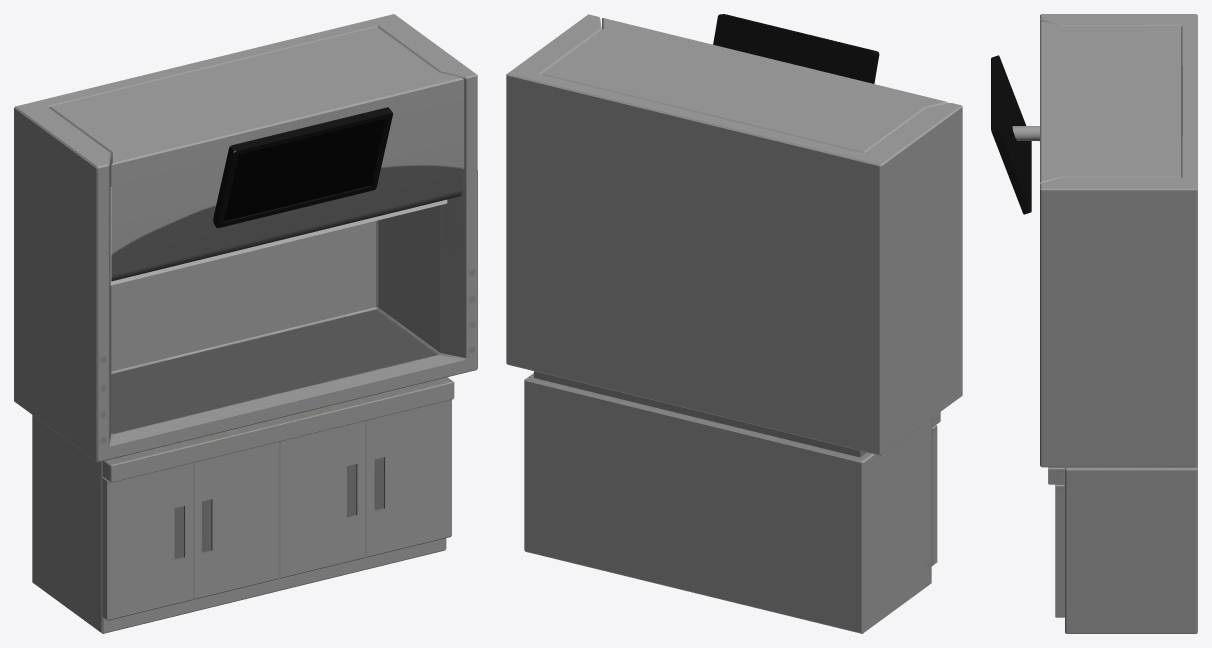
The model's file is fumehood1.glb.
3 renders of one model, left to right at view 1: azimuth 30°, elevation 25°; view 2: azimuth 150°, elevation 25°; view 3: azimuth 270°, elevation 25°, orthographic. The views are drawn at different scales.
Parts seen in each view (by area): view 1: model_0, model_1; view 2: model_0; view 3: model_0.
Part boxes in pixels (bbox=[...]): model_0: bbox=[14, 14, 477, 633]; model_1: bbox=[110, 187, 447, 285]; model_0: bbox=[506, 14, 962, 633]; model_0: bbox=[991, 14, 1197, 633].
Size of the model in its own units: 49.99 by 61.63 by 24.88.
Materials: 2 (1 with a texture image).
